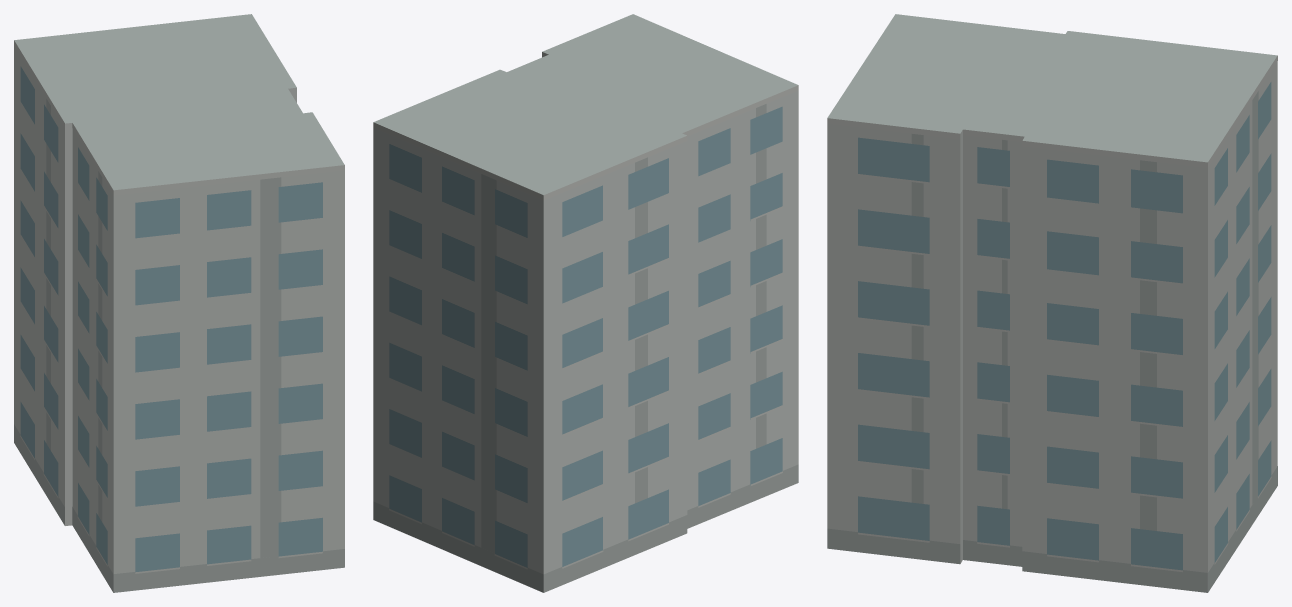
The model's file is survey-upis-32740914.glb.
The picture shows the model from 3 angles, left to right: view 1: azimuth 30°, elevation 25°; view 2: azimuth 150°, elevation 25°; view 3: azimuth 270°, elevation 25°; orthographic projection. The views are drawn at different scales.
Parts seen in each view (by area): view 1: survey-upis-32740914.tmp; view 2: survey-upis-32740914.tmp; view 3: survey-upis-32740914.tmp.
Boxes of the visible parts, x1,y1,x2,y2 form: survey-upis-32740914.tmp: [14, 14, 344, 592]; survey-upis-32740914.tmp: [373, 14, 798, 592]; survey-upis-32740914.tmp: [827, 14, 1277, 592].
Bounding box in the file's own units: 13.54 × 18.3 × 17.37.
